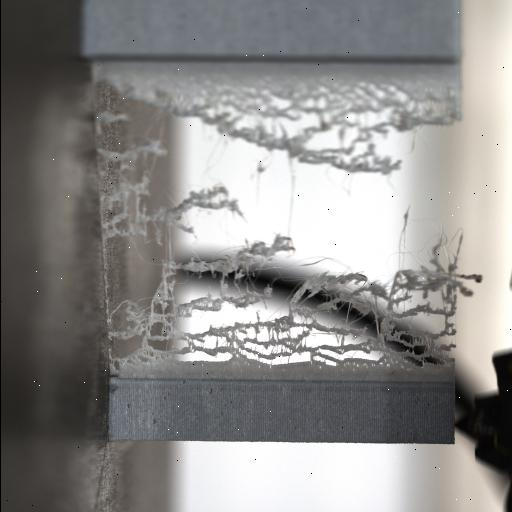stringing: (102, 112, 478, 370)
